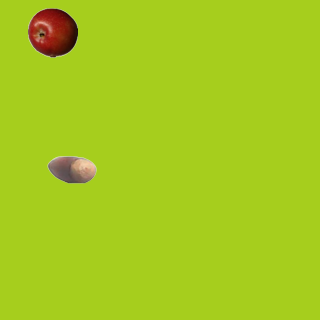Apple Braeburn: (27, 7, 77, 57)
Hazelnut: (46, 144, 96, 194)
